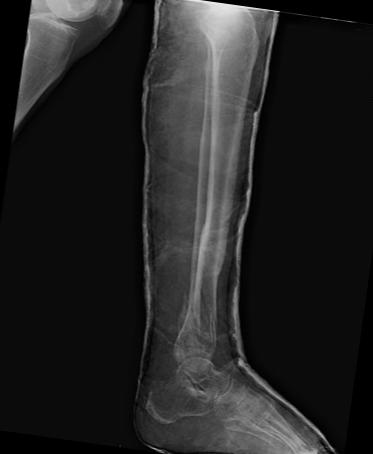fractured: (180, 281, 218, 356), (199, 208, 227, 281)
